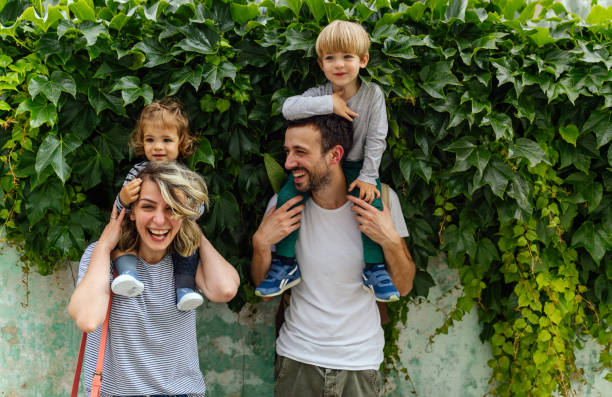without mask: (123, 175, 198, 256), (273, 120, 348, 201), (320, 41, 365, 85), (138, 118, 183, 162)
